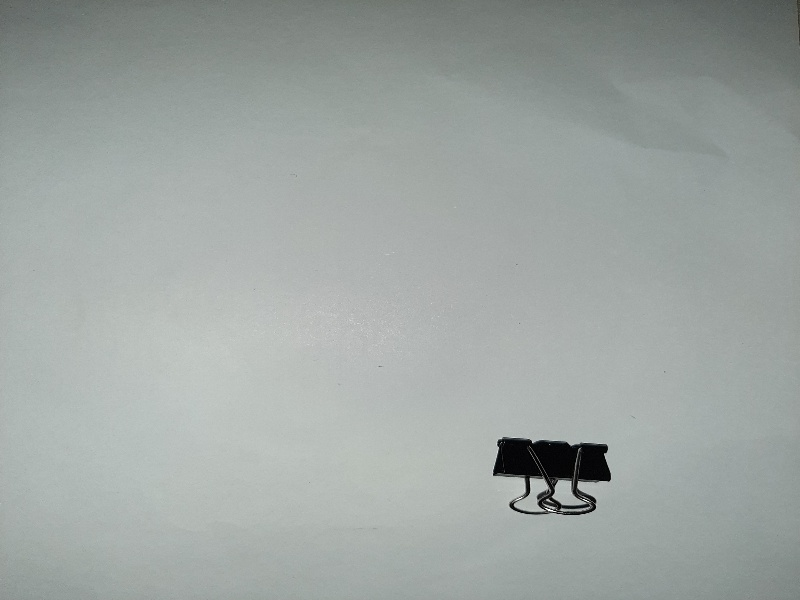Big Paperclip: (487, 432, 618, 523)
